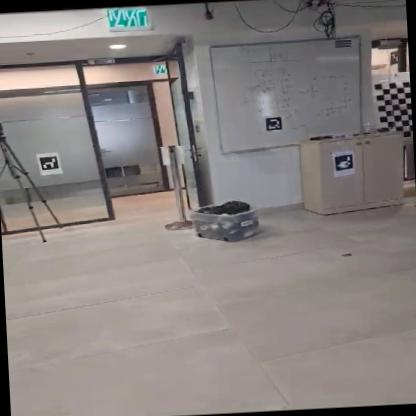open: (86, 76, 186, 226)
